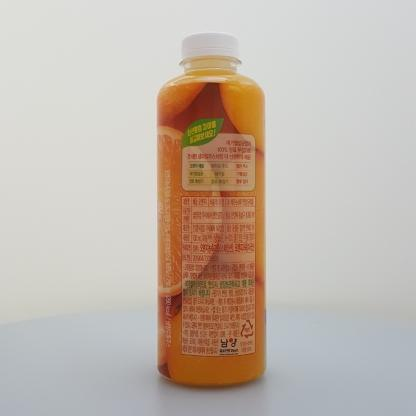-------730ML: (156, 31, 267, 388)
